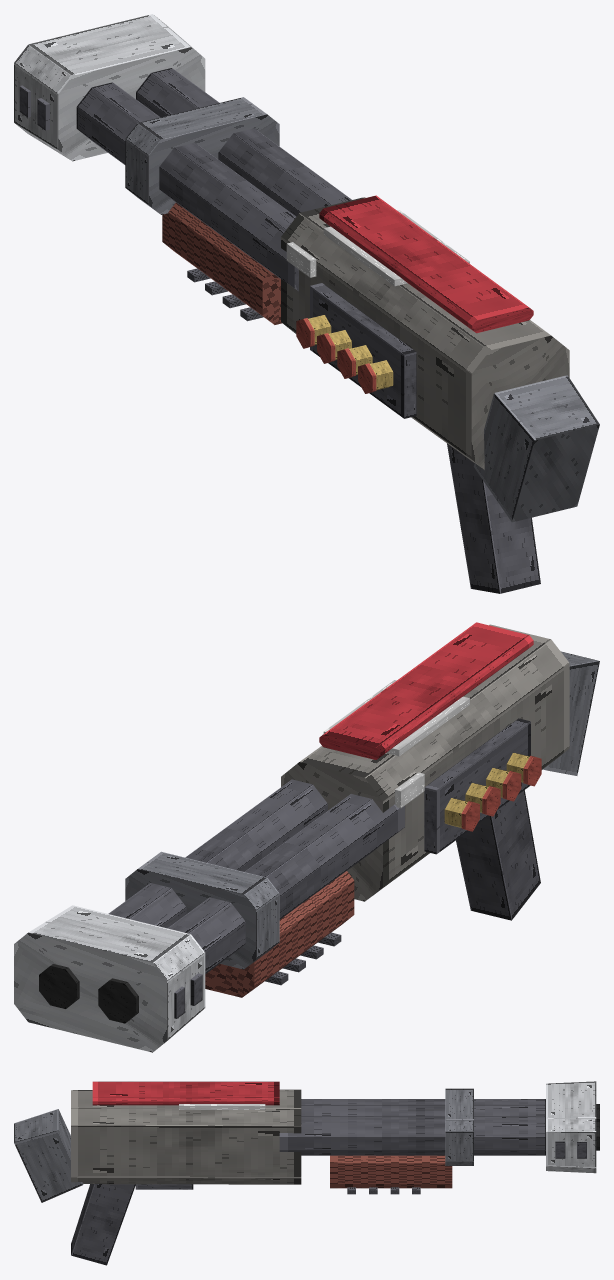
Rendered from weapon_thresher.gltf.
3 views of the same model, one above another, from view 1: azimuth 30°, elevation 25°; view 2: azimuth 150°, elevation 25°; view 3: azimuth 270°, elevation 25° (orthographic). The views are drawn at different scales.
Visible parts, largest first — view 1: body, pump, glow; view 2: body, pump, glow; view 3: body, pump, glow.
Boxes of the visible parts, x1,y1,x2,y2 form: body: (14,14,599,593); pump: (162,203,281,324); glow: (286,210,469,286); body: (14,622,599,1052); pump: (205,871,354,997); glow: (323,680,469,808); body: (14,1081,599,1265); pump: (330,1155,452,1194); glow: (179,1104,265,1109).
Bounding box in the file's own units: 0.16 × 0.2606 × 0.8142.
Materials: 3 (3 with a texture image).
